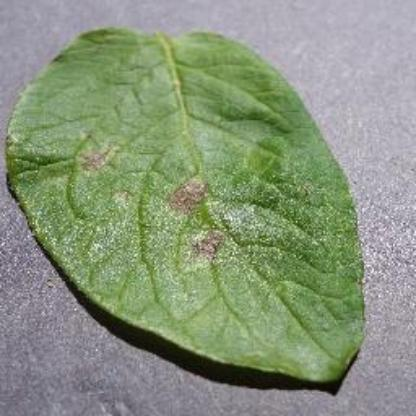Early-Blight: (6, 18, 378, 396)
